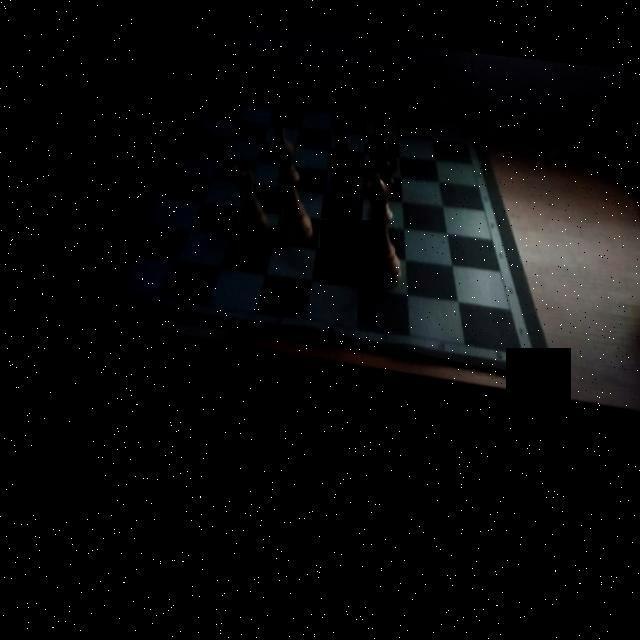chess-table-corners: (506, 331, 528, 356), (100, 272, 122, 294), (205, 87, 222, 107), (456, 104, 473, 122)
